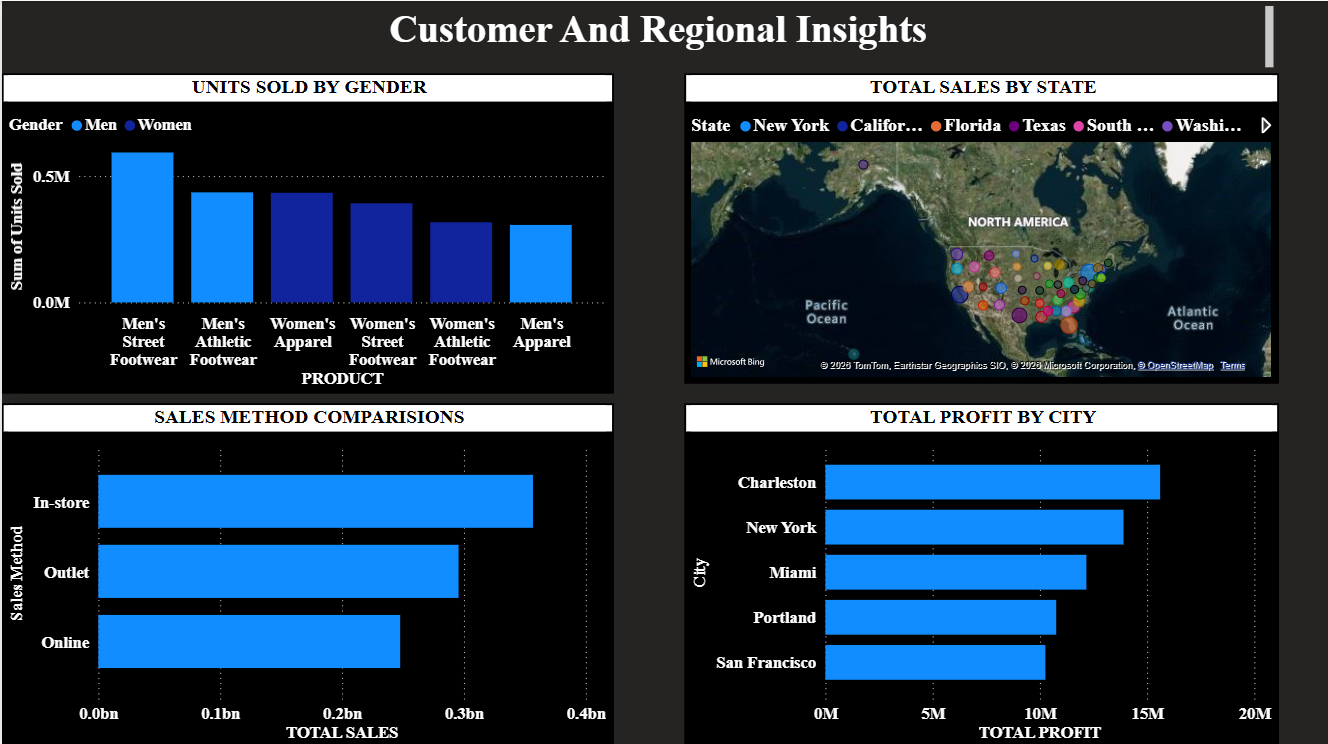

The page's visual inventory and layout, read from the dashboard file:
{"tool":"powerbi","page":{"name":"Customer And Regional Insights","canvas":[1280,720],"ordinal":1},"visuals":[{"type":"columnChart","title":"UNITS SOLD BY GENDER","fields":{"Category":["Data Sales Adidas.Product"],"Series":["Data Sales Adidas.Gender"],"Y":["Sum(Data Sales Adidas.Units Sold)"]},"box":[0,70,590.1,308.7],"z":0},{"type":"clusteredBarChart","title":"SALES METHOD COMPARISIONS","fields":{"Category":["Data Sales Adidas.Sales Method"],"Y":["Sum(Data Sales Adidas.Total Sales)"]},"box":[0,388.3,590.1,332.1],"z":1},{"type":"map","title":"TOTAL SALES BY STATE","fields":{"Category":["Data Sales Adidas.State"],"Series":["Data Sales Adidas.State"],"Size":["Sum(Data Sales Adidas.Total Sales)"]},"box":[658.7,70,573.6,299.1],"z":2},{"type":"barChart","title":"TOTAL PROFIT BY CITY","fields":{"Category":["Data Sales Adidas.City"],"Y":["Sum(Data Sales Adidas.Operating Profit)"]},"box":[658.7,388.3,573.6,332.1],"z":3},{"type":"textbox","box":[0,0,1232.3,70],"z":4}]}

Visuals, with their boxes in screenshot pixels (x1, y1, x2, y2), scaled from the page's 1280x720 canvas onto the 1328x744 screenshot:
"UNITS SOLD BY GENDER" columnChart: select_region(0, 72, 612, 391)
"SALES METHOD COMPARISIONS" clusteredBarChart: select_region(0, 401, 612, 743)
"TOTAL SALES BY STATE" map: select_region(683, 72, 1279, 381)
"TOTAL PROFIT BY CITY" barChart: select_region(683, 401, 1279, 743)
textbox: select_region(0, 0, 1279, 72)
